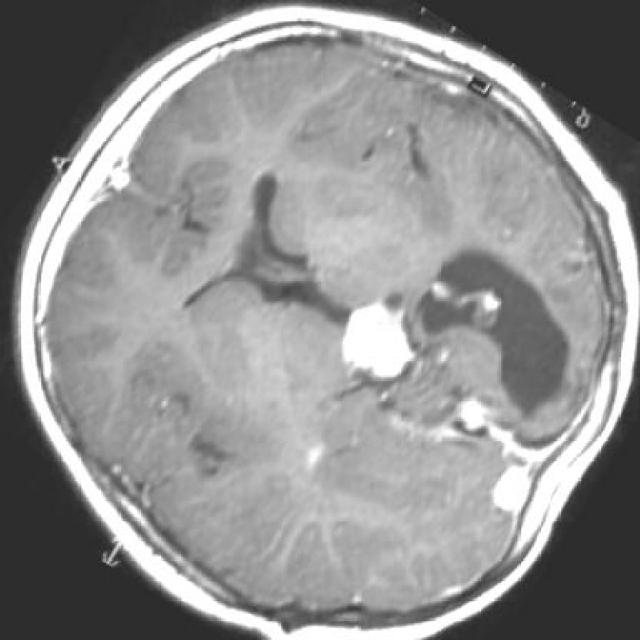Brain-Tumor: (330, 285, 422, 394)
